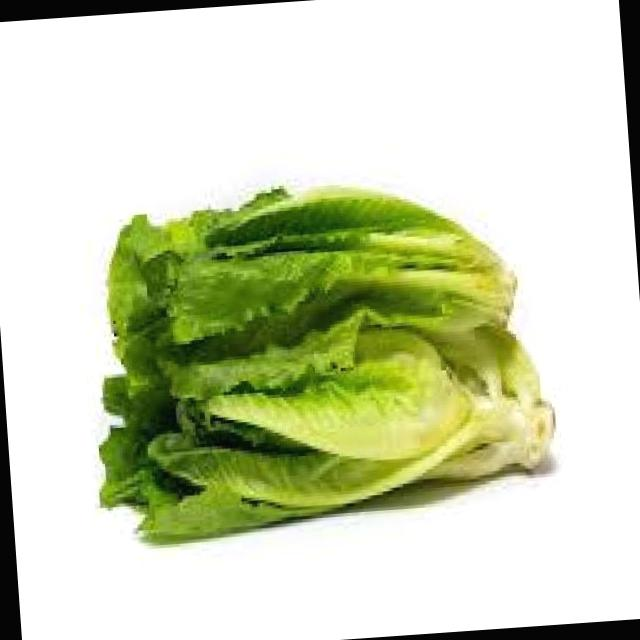Lettuce-Ready-to-Harvest: (101, 309, 553, 540), (109, 189, 510, 365)
